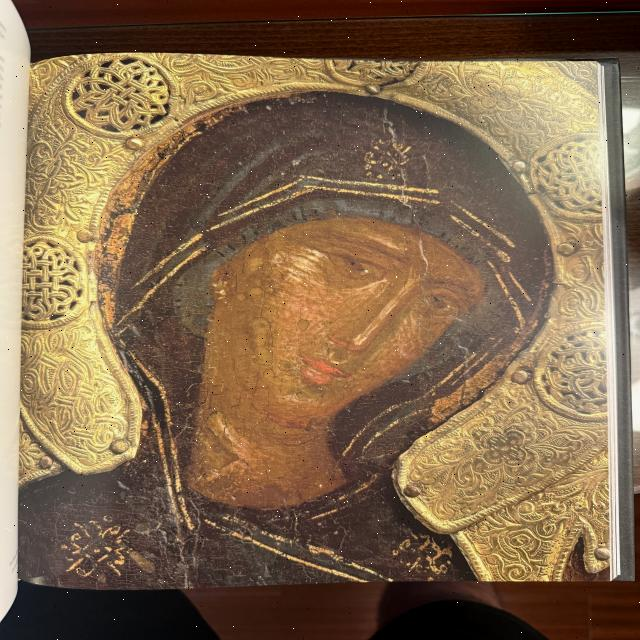mary: (24, 85, 600, 582)
